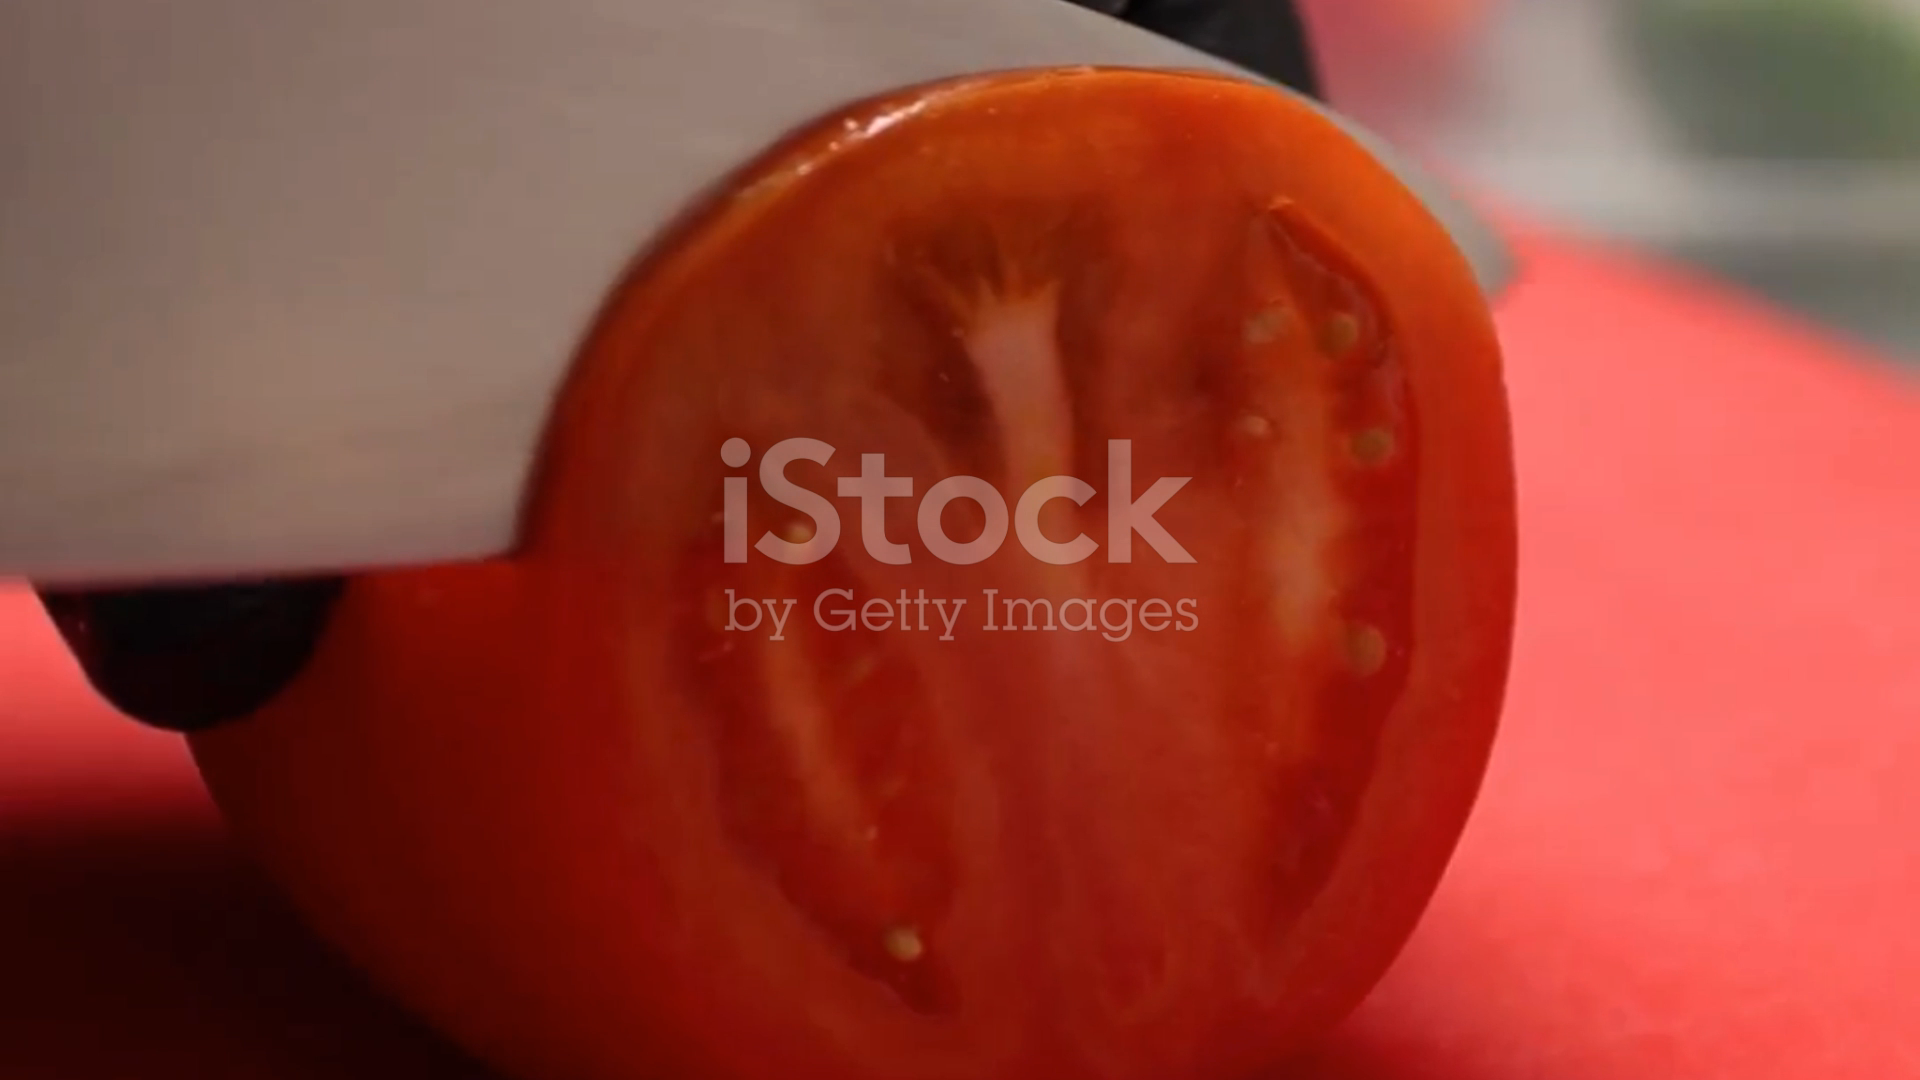cortante: (0, 0, 1523, 585)
